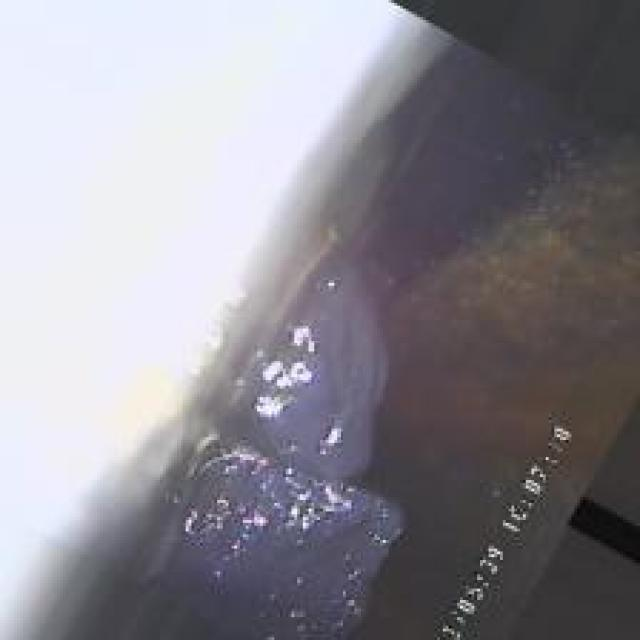stone: (177, 263, 403, 631)
